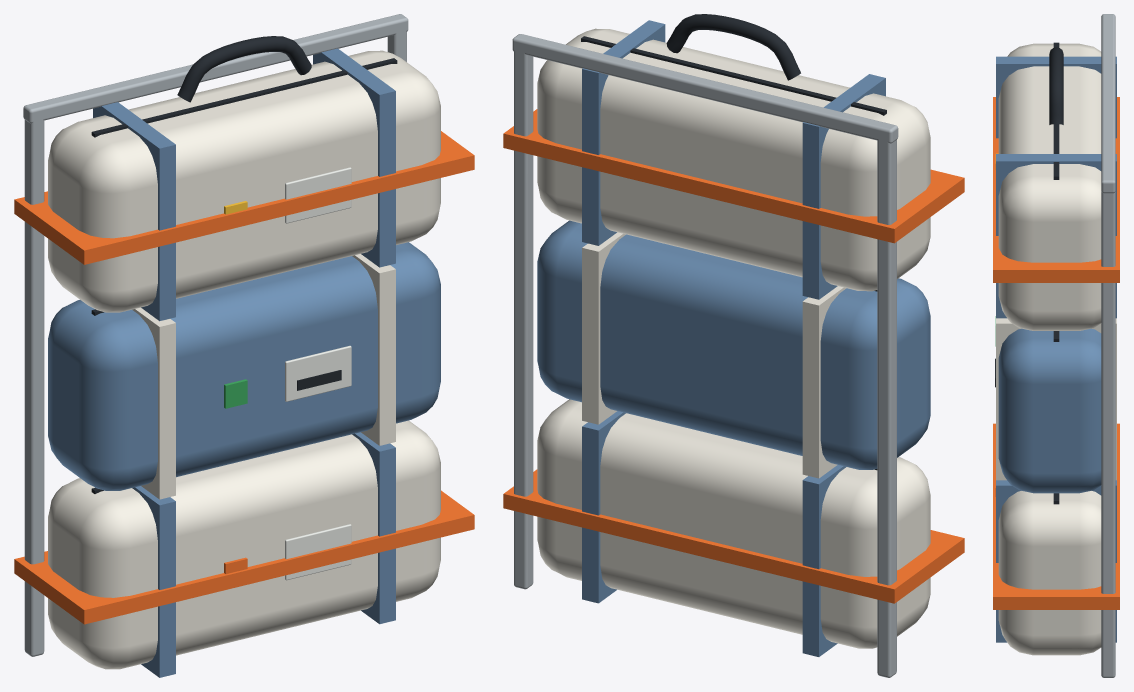
The model's file is cargo-shield-stack.glb.
3 views of the same model, side by side, from view 1: azimuth 30°, elevation 25°; view 2: azimuth 150°, elevation 25°; view 3: azimuth 270°, elevation 25° (orthographic). The views are drawn at different scales.
Visible parts, largest first — view 1: bag_2-cargo-bag-blue, bag_3-beta-cloth, bag_1-beta-cloth, cargo-shield-stack-safety-orange, cargo-shield-stack-aluminium, bag_3-cargo-bag-blue, bag_2-beta-cloth, bag_1-cargo-bag-blue, handle-dark-polymer, bag_2-hull-white, bag_3-hull-white, bag_1-hull-white (+1 smaller); view 2: bag_2-cargo-bag-blue, bag_3-beta-cloth, bag_1-beta-cloth, cargo-shield-stack-aluminium, cargo-shield-stack-safety-orange, bag_3-cargo-bag-blue, bag_2-beta-cloth, bag_1-cargo-bag-blue, handle-dark-polymer, bag_3-dark-polymer; view 3: bag_3-beta-cloth, bag_2-cargo-bag-blue, bag_1-beta-cloth, cargo-shield-stack-aluminium, cargo-shield-stack-safety-orange, bag_3-cargo-bag-blue, bag_2-beta-cloth, handle-dark-polymer, bag_1-cargo-bag-blue, bag_3-dark-polymer.
Boxes of the visible parts, x1,y1,x2,y2 form: bag_2-cargo-bag-blue: [48, 242, 440, 490]; bag_3-beta-cloth: [48, 50, 440, 312]; bag_1-beta-cloth: [48, 420, 440, 669]; cargo-shield-stack-safety-orange: [14, 131, 474, 624]; cargo-shield-stack-aluminium: [23, 14, 408, 656]; bag_3-cargo-bag-blue: [93, 48, 395, 321]; bag_2-beta-cloth: [132, 254, 395, 499]; bag_1-cargo-bag-blue: [132, 432, 395, 677]; handle-dark-polymer: [177, 36, 311, 102]; bag_2-hull-white: [285, 345, 351, 401]; bag_3-hull-white: [285, 167, 351, 223]; bag_1-hull-white: [285, 524, 351, 580]; bag_2-cargo-bag-blue: [537, 220, 930, 469]; bag_3-beta-cloth: [537, 28, 930, 291]; bag_1-beta-cloth: [537, 399, 930, 648]; cargo-shield-stack-aluminium: [512, 34, 898, 677]; cargo-shield-stack-safety-orange: [503, 109, 964, 603]; bag_3-cargo-bag-blue: [582, 20, 885, 299]; bag_2-beta-cloth: [582, 232, 846, 478]; bag_1-cargo-bag-blue: [582, 411, 845, 656]; handle-dark-polymer: [666, 14, 800, 80]; bag_3-dark-polymer: [581, 36, 886, 115]; bag_3-beta-cloth: [998, 43, 1101, 330]; bag_2-cargo-bag-blue: [998, 328, 1101, 493]; bag_1-beta-cloth: [998, 491, 1101, 655]; cargo-shield-stack-aluminium: [1101, 14, 1115, 677]; cargo-shield-stack-safety-orange: [993, 97, 1119, 609]; bag_3-cargo-bag-blue: [996, 56, 1116, 318]; bag_2-beta-cloth: [996, 318, 1116, 480]; handle-dark-polymer: [1049, 47, 1063, 124]; bag_1-cargo-bag-blue: [996, 480, 1116, 642]; bag_3-dark-polymer: [1053, 42, 1059, 179].
Size of the model in its own units: 1.42 by 2.05 by 0.44.
